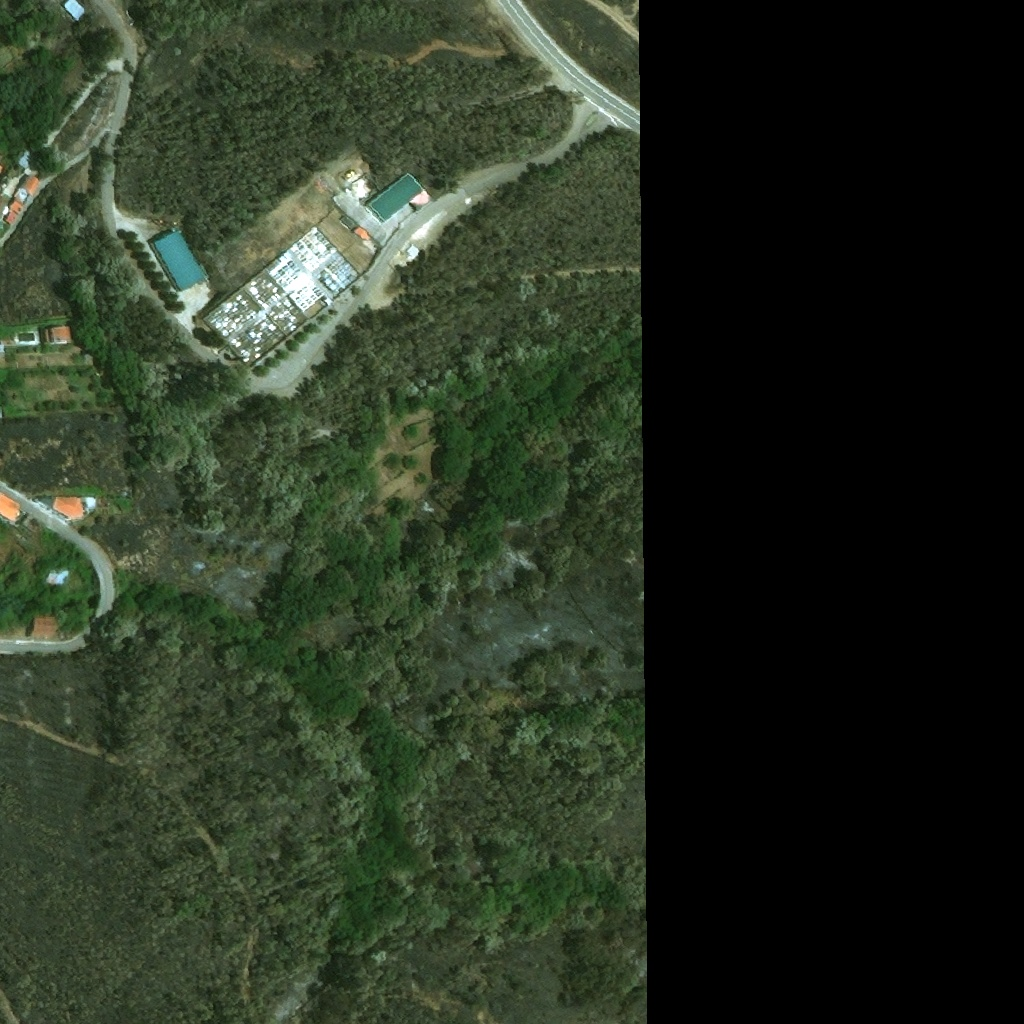0 no-damage: (149, 227, 208, 294), (367, 170, 434, 224), (0, 161, 26, 225), (50, 496, 83, 519), (0, 493, 22, 522), (10, 187, 32, 214), (42, 326, 72, 345), (28, 619, 55, 639), (62, 0, 87, 21), (21, 174, 40, 194), (44, 571, 67, 587), (14, 331, 37, 345), (3, 208, 19, 226), (353, 226, 372, 241), (86, 497, 97, 509)
4 un-classified: (0, 152, 10, 176), (0, 405, 3, 418)
